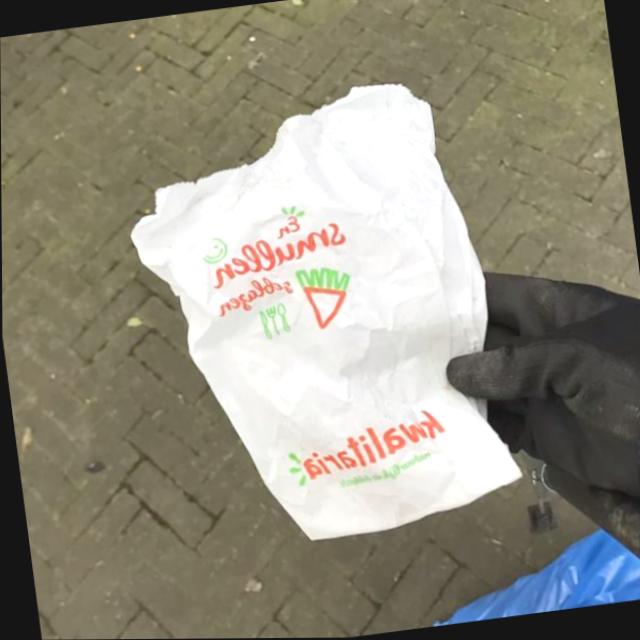Paper: (111, 65, 532, 564)
